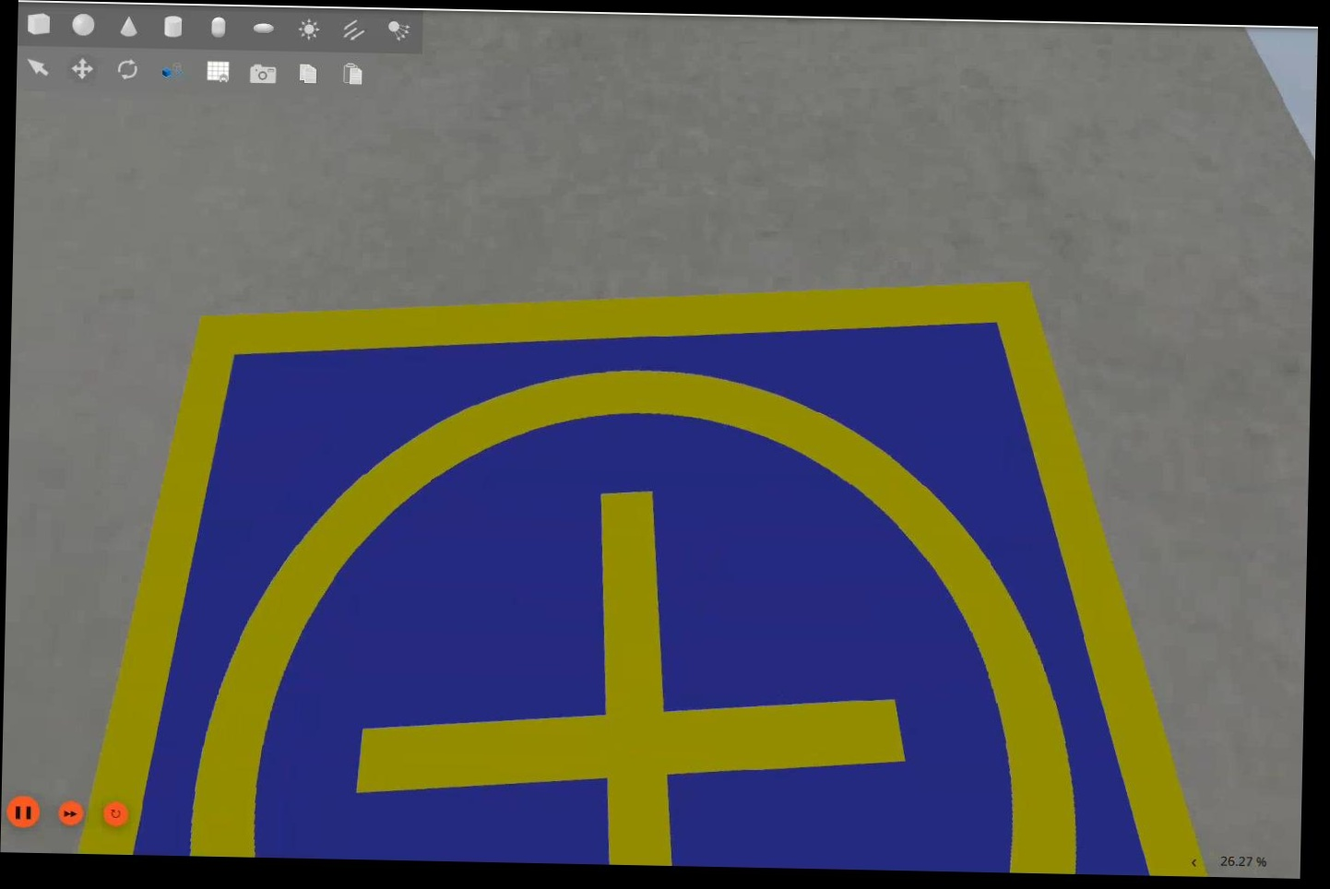small_base: (76, 258, 1221, 879)
